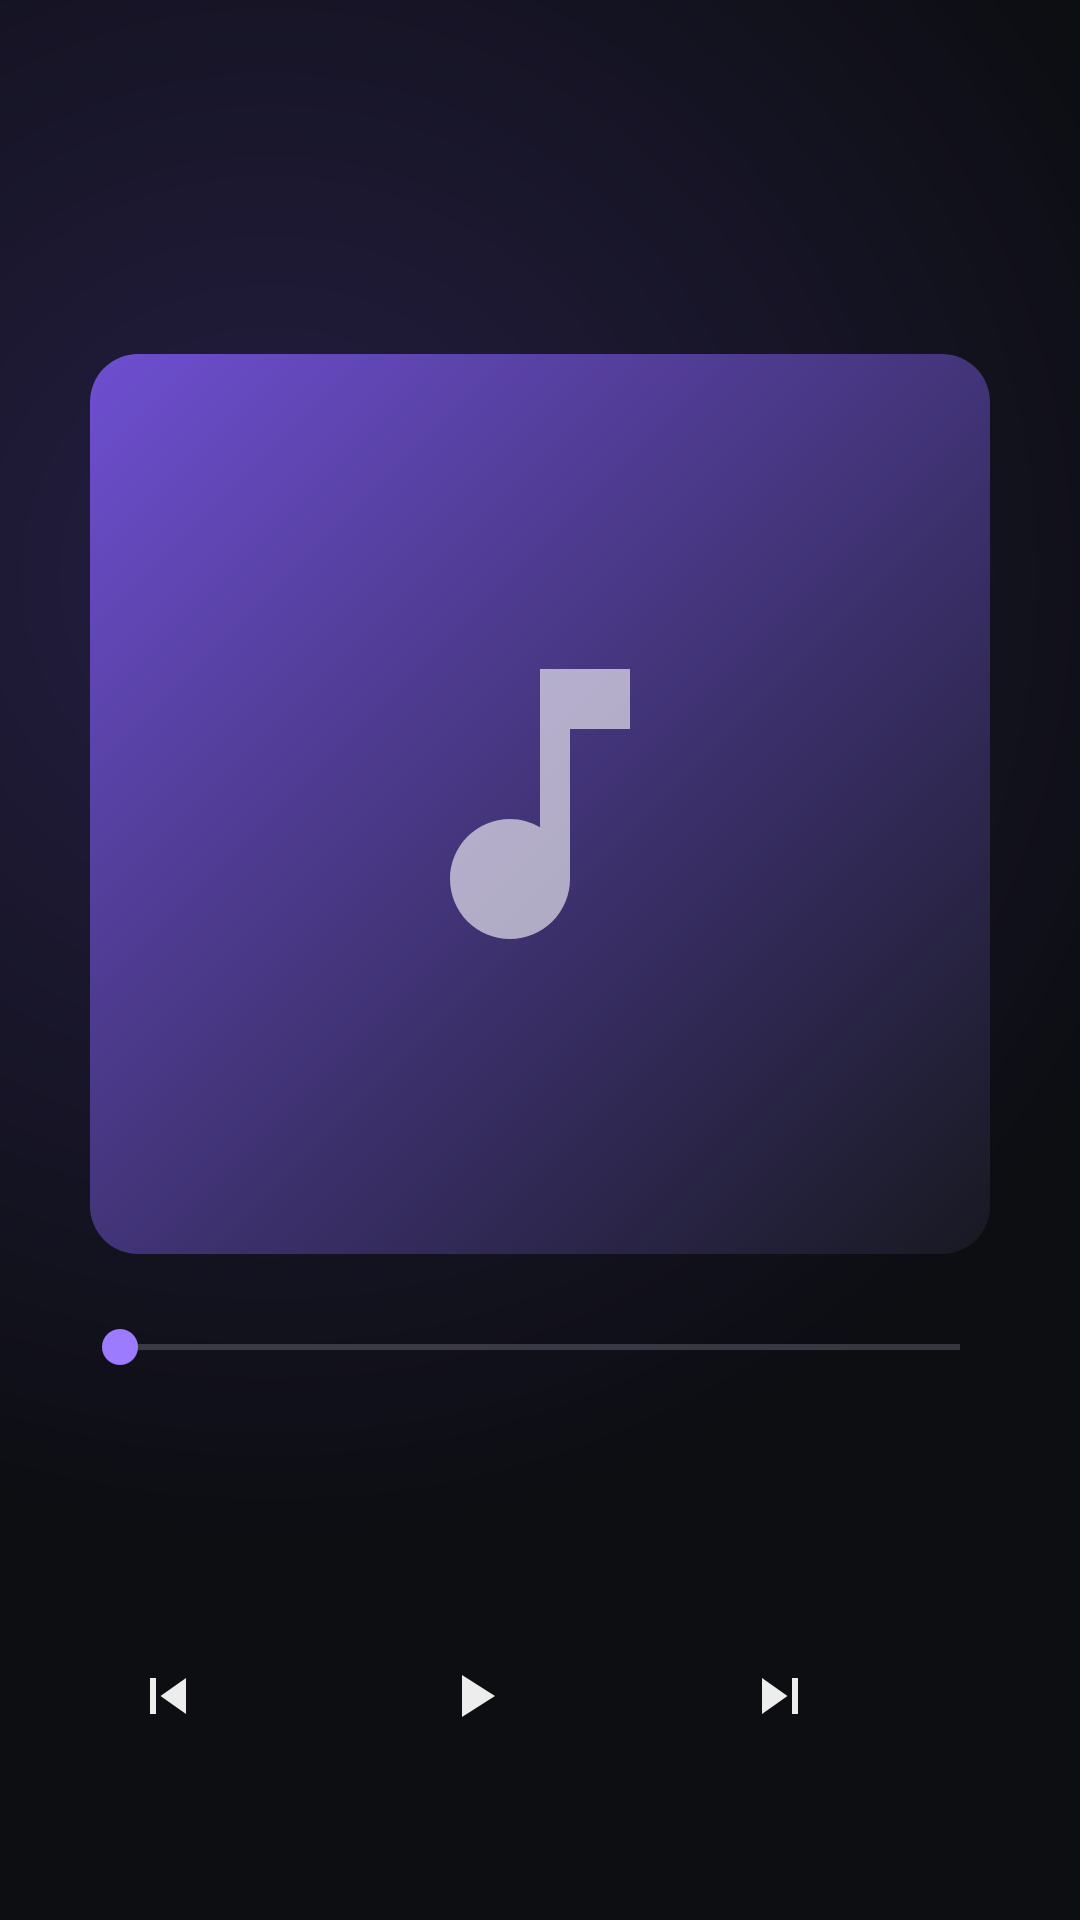

Where to tap for icons on this 1080×1920 app screen, as (x=x, y=y):
上一曲: (x=168, y=1696)
下一曲: (x=780, y=1696)
